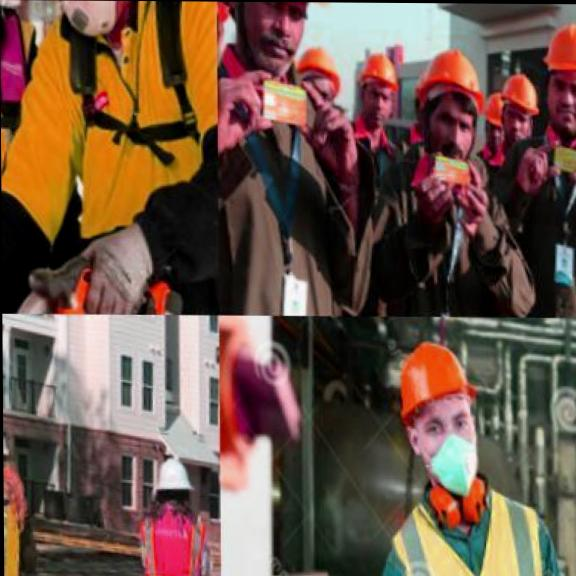safety_vest: (219, 54, 365, 315), (318, 157, 521, 316), (347, 470, 576, 576), (459, 129, 576, 316), (0, 0, 64, 312), (118, 501, 216, 576), (3, 467, 35, 576)
